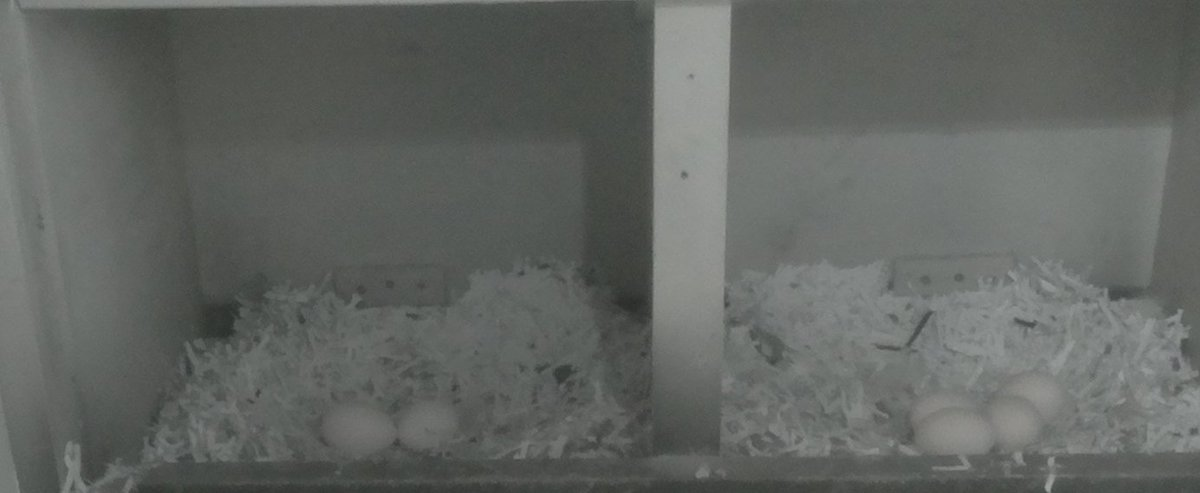egg: (317, 392, 405, 464), (391, 393, 474, 458), (914, 406, 1002, 463), (997, 366, 1071, 424), (984, 392, 1049, 454), (905, 387, 990, 428)
